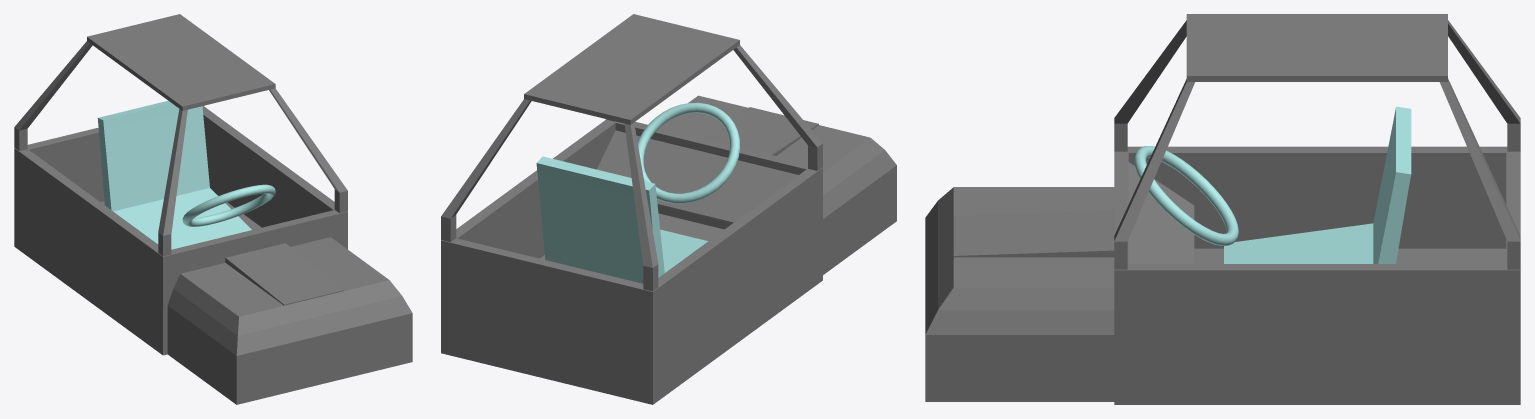
The model's file is car-model.gltf.
The picture shows the model from 3 angles, left to right: view 1: azimuth 30°, elevation 25°; view 2: azimuth 150°, elevation 25°; view 3: azimuth 270°, elevation 25°; orthographic projection. The views are drawn at different scales.
Visible parts, largest first — view 1: Car_Monoblock, Car_Front, Car_Monoblock.001, Seat, Wheel; view 2: Car_Monoblock, Car_Monoblock.001, Car_Front, Seat, Dashboard, Wheel; view 3: Car_Monoblock, Car_Front, Car_Monoblock.001, Seat, Dashboard, Wheel.
Part boxes in pixels (left/top/right/bottom): Car_Monoblock: left=14, top=106, right=347, bottom=355; Car_Front: left=167, top=237, right=412, bottom=404; Car_Monoblock.001: left=14, top=14, right=347, bottom=256; Seat: left=97, top=100, right=251, bottom=249; Wheel: left=182, top=184, right=275, bottom=226; Car_Monoblock: left=441, top=119, right=822, bottom=404; Car_Monoblock.001: left=441, top=14, right=822, bottom=291; Car_Front: left=660, top=95, right=896, bottom=274; Seat: left=536, top=156, right=707, bottom=283; Dashboard: left=596, top=130, right=798, bottom=223; Wheel: left=637, top=102, right=740, bottom=203; Car_Monoblock: left=1114, top=146, right=1520, bottom=404; Car_Front: left=925, top=187, right=1114, bottom=401; Car_Monoblock.001: left=1114, top=14, right=1520, bottom=269; Seat: left=1224, top=106, right=1411, bottom=263; Dashboard: left=1128, top=162, right=1194, bottom=263; Wheel: left=1134, top=146, right=1238, bottom=245.
Bounding box in the file's own units: 1.44 × 1.62 × 2.93.
